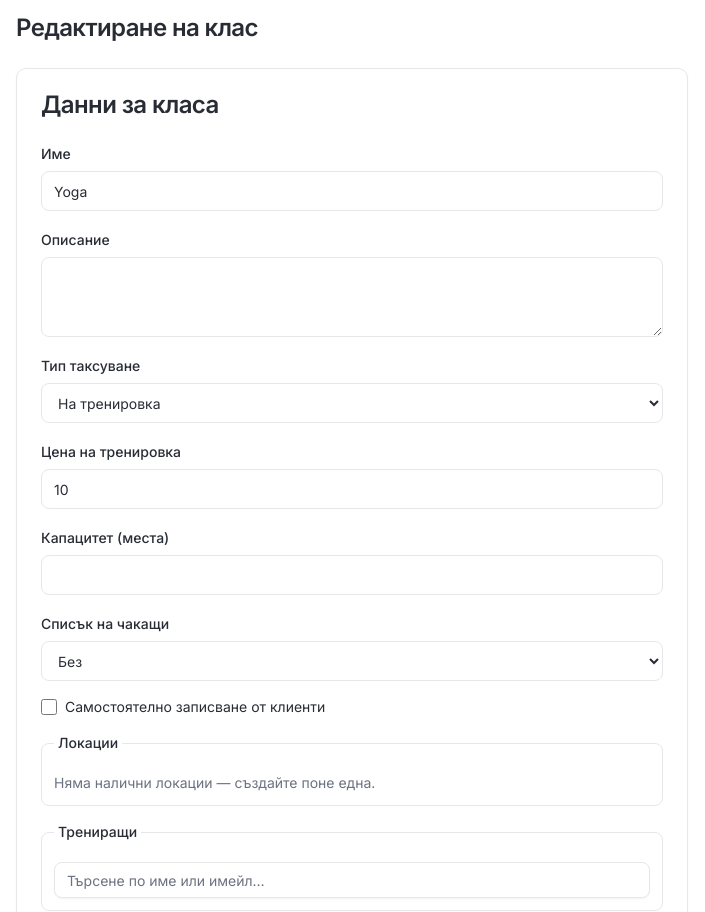
Test: ClassForm self-booking (TKT-0117) › hides the cutoff field while the toggle is off, shows it when switched on
Click the checkbox with id "allowSelfBooking" at (49, 707), box 41,699 -> 57,715
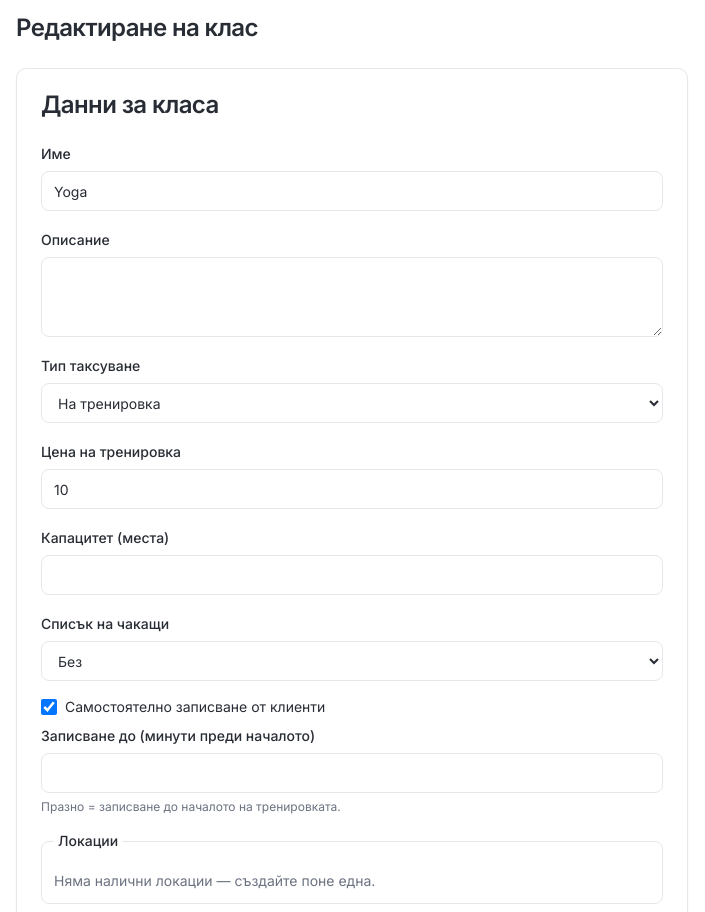
Expected: the number field with id "bookingCutoffMin" is shown, 41,753 -> 663,793
